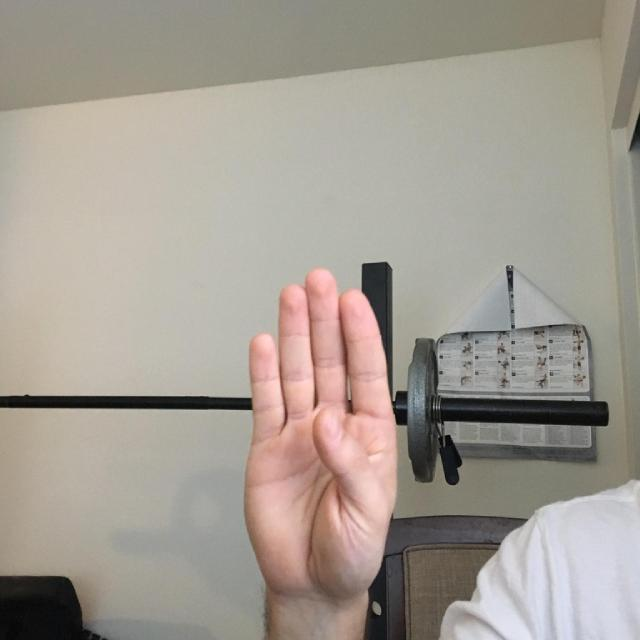B: (219, 245, 414, 618)
